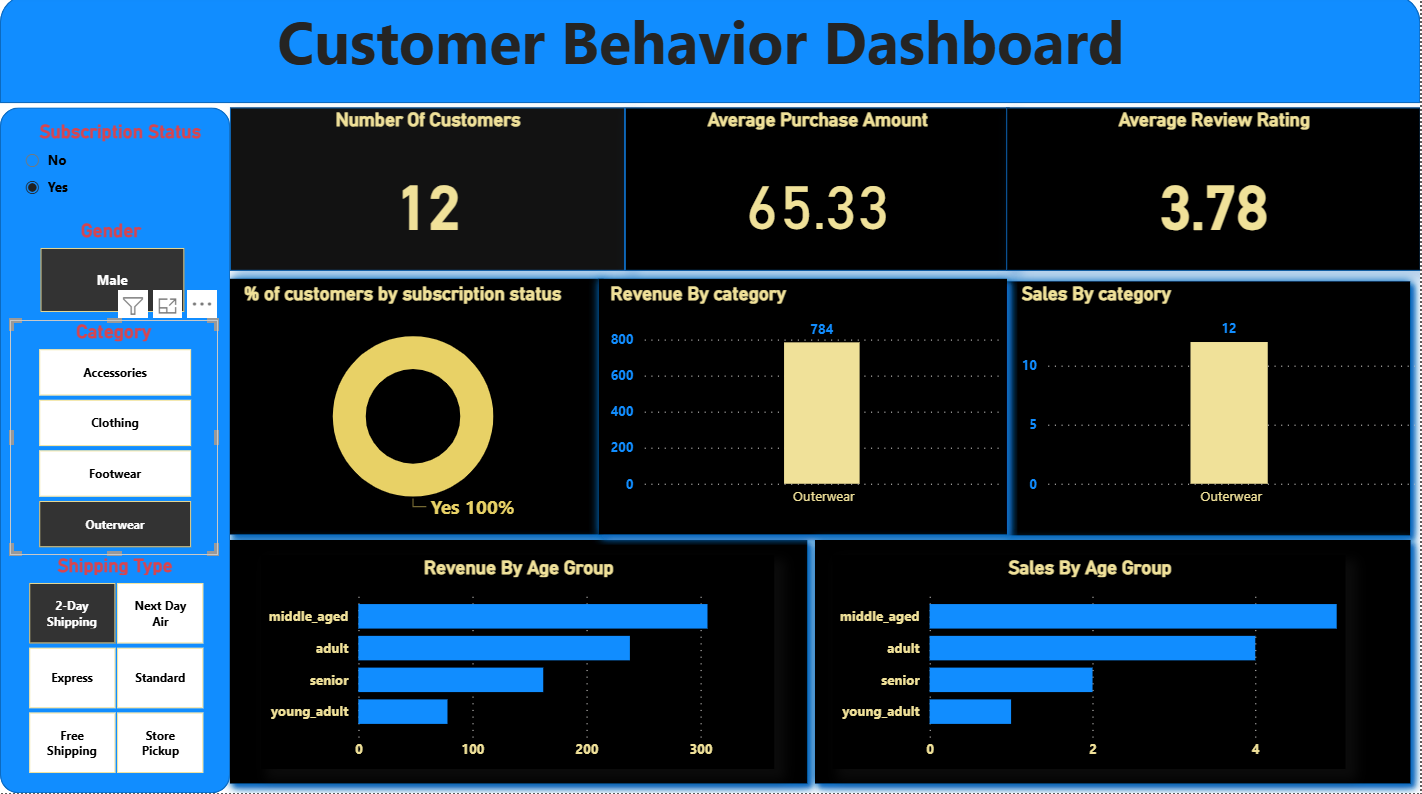

This screenshot's page, from the dashboard's own definition file:
{"tool":"powerbi","page":{"name":"Page 1","canvas":[1280,720],"ordinal":0},"visuals":[{"type":"card","title":"Number Of Customers","fields":{"Values":["public customer.number of customers"]},"box":[207.4,101.7,355.8,147],"z":0},{"type":"card","title":"Average Purchase Amount","fields":{"Values":["public customer.average purchase amount"]},"box":[563.2,101.7,346.2,147],"z":1000},{"type":"card","title":"Average Review Rating","fields":{"Values":["public customer.average review rating"]},"box":[906.6,101.7,373.6,147],"z":2000},{"type":"shape","box":[0,0,1280.3,97.5],"z":3000},{"type":"textbox","box":[94.8,0,1074.2,85.2],"z":4000},{"type":"shape","box":[197.8,247.3,354.4,248.6],"z":5000},{"type":"donutChart","title":"% of customers by subscription status","fields":{"Category":["public customer.subscription_status"],"Y":["public customer.number of customers"]},"box":[215.7,259.6,314.6,222.5],"z":6000},{"type":"shape","box":[197.8,482.2,538.5,237.6],"z":7000},{"type":"shape","box":[897,248.6,383.3,247.3],"z":8000},{"type":"shape","box":[530.2,247.3,386,248.6],"z":9000},{"type":"shape","box":[725.3,482.2,555,237.6],"z":10000},{"type":"clusteredColumnChart","title":"Revenue By category","fields":{"Y":["Sum(public customer.purchase_amount)"],"Category":["public customer.category"]},"box":[545.4,259.6,364,211.5],"z":11000},{"type":"clusteredColumnChart","title":"Sales By category","fields":{"Y":["CountNonNull(public customer.customer_id)"],"Category":["public customer.category"]},"box":[916.3,259.6,364,211.5],"z":12000},{"type":"shape","box":[0,101.7,207.4,618.2],"z":13000},{"type":"slicer","title":"Subscription Status","fields":{"Values":["public customer.subscription_status"]},"box":[10.5,112.8,196.5,112.8],"z":14000},{"type":"slicer","title":"Gender","fields":{"Values":["public customer.gender"]},"box":[9.6,201.9,180,90.7],"z":15000},{"type":"slicer","title":"Category","fields":{"Values":["public customer.category"]},"box":[9.3,293,187.2,211.6],"z":16000},{"type":"slicer","title":"Shipping Type","fields":{"Values":["public customer.shipping_type"]},"box":[0,504.1,207.4,204.7],"z":16001},{"type":"clusteredBarChart","title":"Revenue By Age Group","fields":{"Category":["public customer.age_group"],"Y":["Sum(public customer.purchase_amount)"]},"box":[236,504.7,462.8,193],"z":16002},{"type":"clusteredBarChart","title":"Sales By Age Group","fields":{"Category":["public customer.age_group"],"Y":["CountNonNull(public customer.customer_id)"]},"box":[750,504.7,462.8,193],"z":16003}]}

Visuals, with their boxes in screenshot pixels (x1, y1, x2, y2), scaled from the page's 1280x720 canvas onto the 1422x794 screenshot:
"Number Of Customers" card: 230, 112, 626, 274
"Average Purchase Amount" card: 626, 112, 1010, 274
"Average Review Rating" card: 1007, 112, 1421, 274
shape: 0, 0, 1421, 108
textbox: 105, 0, 1299, 94
shape: 220, 273, 613, 547
"% of customers by subscription status" donutChart: 240, 286, 589, 532
shape: 220, 532, 818, 793
shape: 997, 274, 1421, 547
shape: 589, 273, 1018, 547
shape: 806, 532, 1421, 793
"Revenue By category" clusteredColumnChart: 606, 286, 1010, 520
"Sales By category" clusteredColumnChart: 1018, 286, 1421, 520
shape: 0, 112, 230, 793
"Subscription Status" slicer: 12, 124, 230, 249
"Gender" slicer: 11, 223, 211, 323
"Category" slicer: 10, 323, 218, 556
"Shipping Type" slicer: 0, 556, 230, 782
"Revenue By Age Group" clusteredBarChart: 262, 557, 776, 769
"Sales By Age Group" clusteredBarChart: 833, 557, 1347, 769
